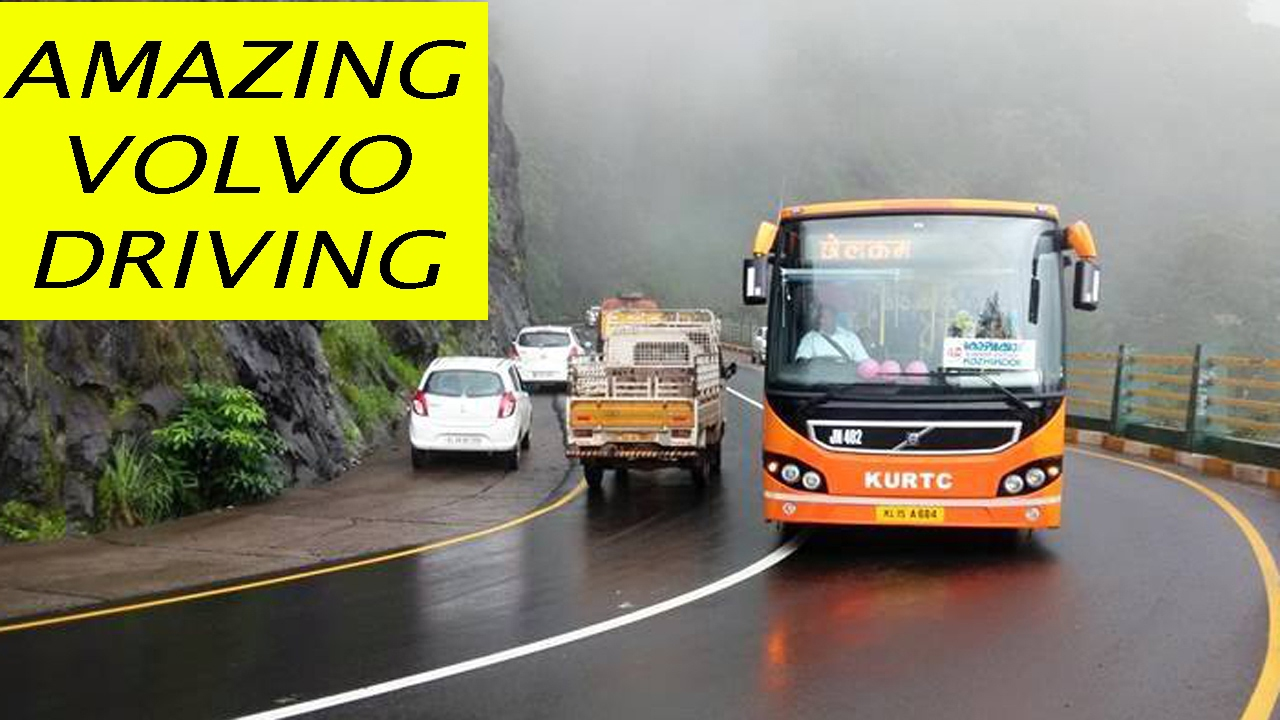bus: (757, 195, 1098, 534)
passenger: (411, 355, 532, 469)
truck: (565, 307, 734, 484)
